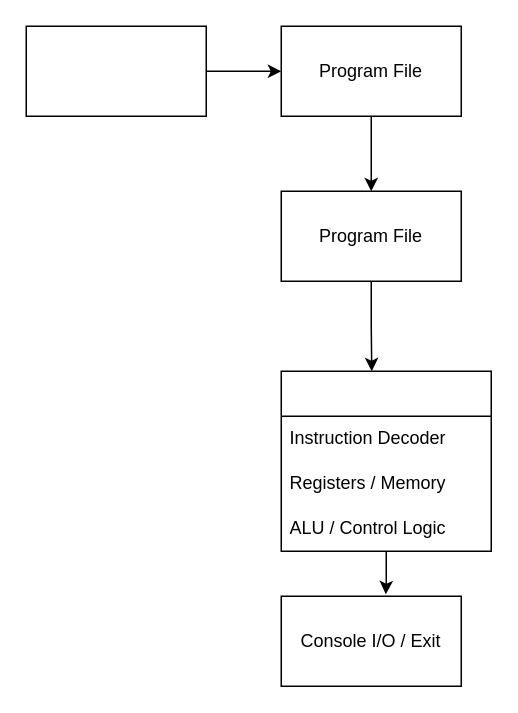
Some shapes in this 518 by 713 pixel diagram are drawn without their labels. The shapes that lost their labels are listed below. From the top down, each one's box as (x1, y1, x2, y2) in pixels, then its label:
(25, 25, 206, 116): Assembler (Python)
(280, 370, 491, 551): C++ LC3 VM Engine
